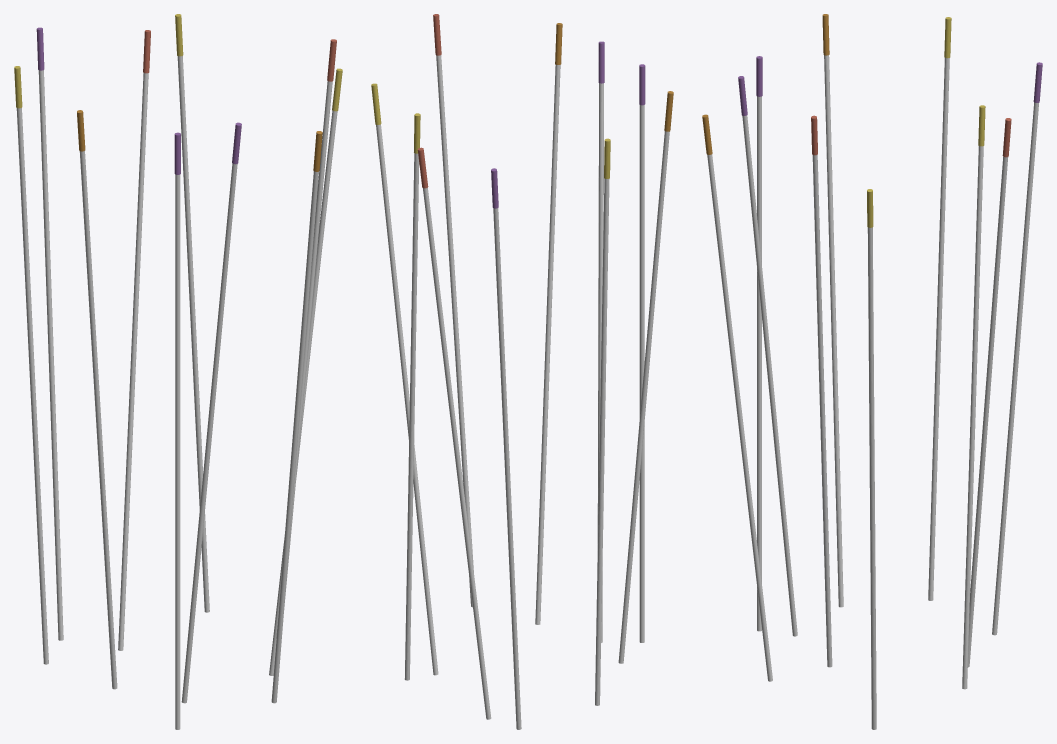
File: electrodes.glb
The picture shows the model from 3 angles, left to right: view 1: azimuth 30°, elevation 25°; view 2: azimuth 150°, elevation 25°; view 3: azimuth 270°, elevation 25°; orthographic projection. The views are drawn at different scales.
Visible parts, largest first — view 1: Electrode_5_Tip, Electrode_3_Tip.001, Electrode_3_Tip, Electrode_2_Tip, Electrode_3_Tip.002, Electrode_4_Tip.001, Electrode_4_Tip, Electrode_2_Tip.001, Electrode_5_Tip.001, Electrode_6_Tip; view 2: Electrode_4_Tip, Electrode_4_Tip.001, Electrode_5_Tip, Electrode_2_Tip, Electrode_2_Tip.001, Electrode_3_Tip.001, Electrode_6_Tip, Electrode_3_Tip, Electrode_5_Tip.001, Electrode_3_Tip.002; view 3: Electrode_4_Tip.001, Electrode_2_Tip.001, Electrode_2_Tip, Electrode_3_Tip.001, Electrode_4_Tip, Electrode_3_Tip.002, Electrode_5_Tip.001, Electrode_6_Tip, Electrode_5_Tip, Electrode_3_Tip.
Part boxes in pixels (left/top/right/bottom): Electrode_5_Tip: left=118, top=30, right=150, bottom=650; Electrode_3_Tip.001: left=36, top=27, right=63, bottom=640; Electrode_3_Tip: left=174, top=132, right=180, bottom=729; Electrode_2_Tip: left=14, top=66, right=48, bottom=664; Electrode_3_Tip.002: left=181, top=122, right=241, bottom=703; Electrode_4_Tip.001: left=77, top=110, right=117, bottom=689; Electrode_4_Tip: left=271, top=131, right=322, bottom=703; Electrode_2_Tip.001: left=175, top=14, right=209, bottom=612; Electrode_5_Tip.001: left=276, top=39, right=336, bottom=638; Electrode_6_Tip: left=269, top=68, right=342, bottom=675; Electrode_4_Tip: left=535, top=23, right=562, bottom=624; Electrode_4_Tip.001: left=618, top=91, right=673, bottom=663; Electrode_5_Tip: left=417, top=147, right=491, bottom=719; Electrode_2_Tip: left=595, top=138, right=610, bottom=705; Electrode_2_Tip.001: left=404, top=113, right=420, bottom=680; Electrode_3_Tip.001: left=491, top=168, right=521, bottom=729; Electrode_6_Tip: left=371, top=83, right=438, bottom=675; Electrode_3_Tip: left=639, top=64, right=645, bottom=642; Electrode_5_Tip.001: left=433, top=14, right=473, bottom=607; Electrode_3_Tip.002: left=597, top=41, right=604, bottom=642; Electrode_4_Tip.001: left=822, top=14, right=843, bottom=607; Electrode_2_Tip.001: left=962, top=105, right=985, bottom=689; Electrode_2_Tip: left=928, top=17, right=951, bottom=600; Electrode_3_Tip.001: left=992, top=62, right=1042, bottom=635; Electrode_4_Tip: left=702, top=114, right=772, bottom=681; Electrode_3_Tip.002: left=738, top=76, right=797, bottom=636; Electrode_5_Tip.001: left=811, top=115, right=832, bottom=667; Electrode_6_Tip: left=867, top=189, right=876, bottom=729; Electrode_5_Tip: left=968, top=118, right=1011, bottom=667; Electrode_3_Tip: left=756, top=56, right=762, bottom=631.
Bounding box in the file's own units: 1.9 × 4.1 × 2.02.
